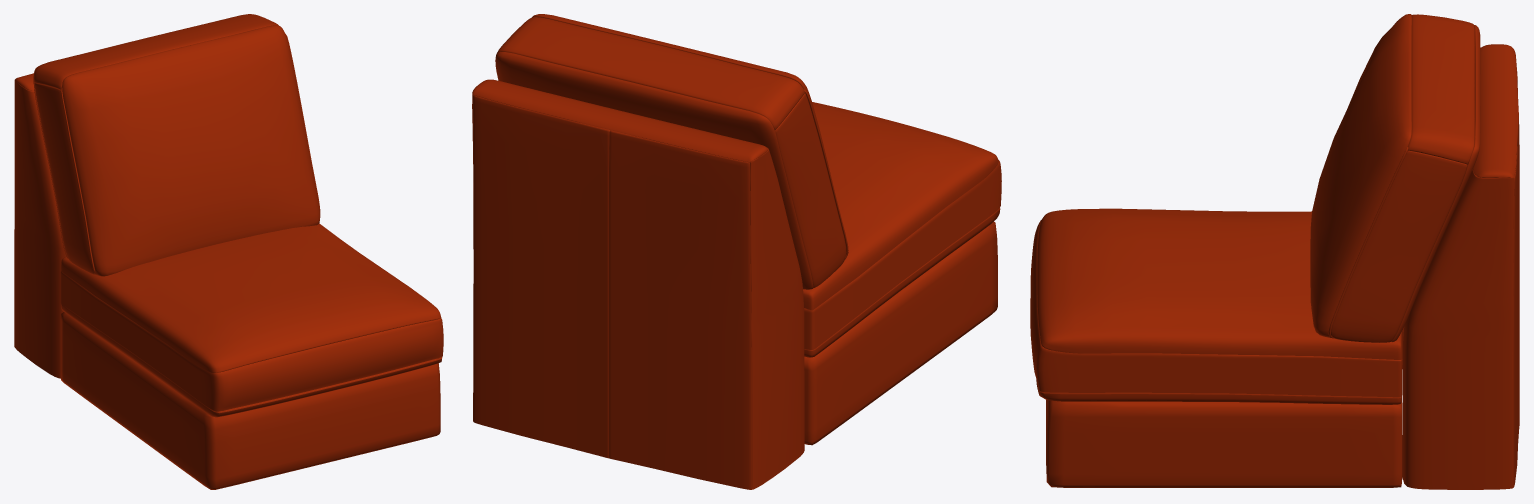
3 views of the same model, side by side, from view 1: azimuth 30°, elevation 25°; view 2: azimuth 150°, elevation 25°; view 3: azimuth 270°, elevation 25° (orthographic). The views are drawn at different scales.
Parts seen in each view (by area): view 1: cover_330-342_12M-BL; view 2: cover_330-342_12M-BL; view 3: cover_330-342_12M-BL.
Boxes of the visible parts, bbox=[...] form: cover_330-342_12M-BL: bbox=[14, 14, 443, 489]; cover_330-342_12M-BL: bbox=[472, 14, 1001, 489]; cover_330-342_12M-BL: bbox=[1030, 14, 1519, 489].
Bounding box in the file's own units: 0.5985 × 0.7434 × 0.9364.
